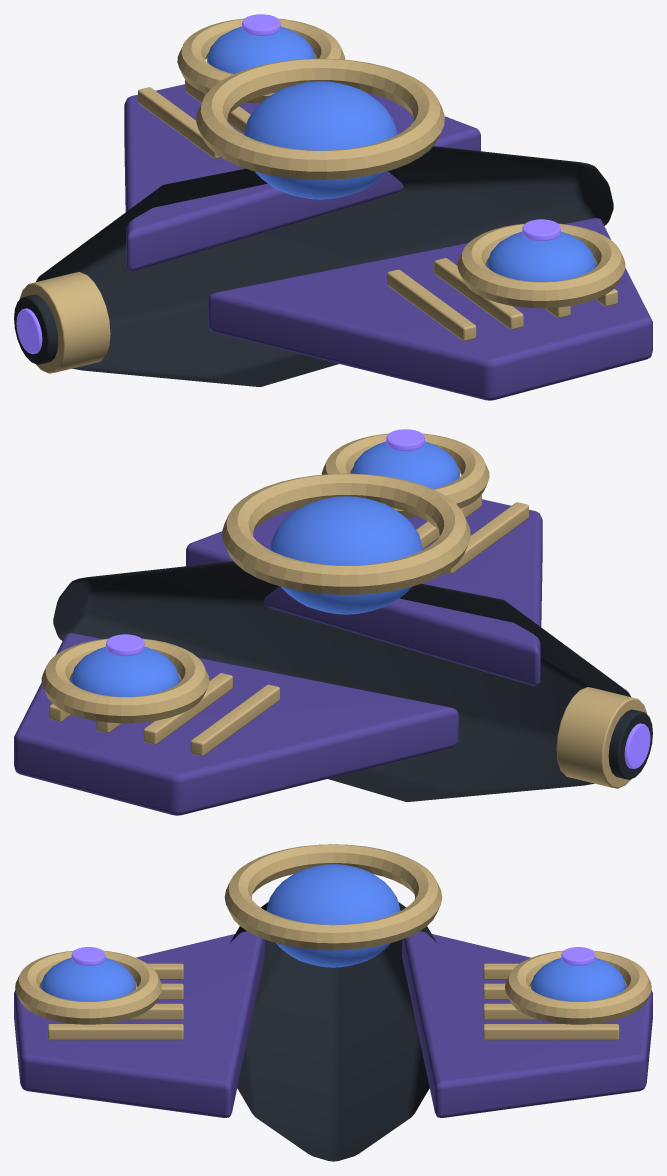
The model's file is jammer-v3.glb.
3 renders of one model, top to bottom at view 1: azimuth 30°, elevation 25°; view 2: azimuth 150°, elevation 25°; view 3: azimuth 270°, elevation 25°, orthographic. The views are drawn at different scales.
Visible parts, largest first — view 1: broadcast spindle, manta wing, manta wing.001, broadcast halo, broadcast core, resonator collar, main drive collar, resonator sapphire, resonator collar.001, resonator sapphire.001, wing waveguide, wing waveguide.004 (+6 smaller); view 2: broadcast spindle, manta wing.001, manta wing, broadcast halo, broadcast core, resonator collar.001, main drive collar, resonator sapphire.001, resonator collar, resonator sapphire, wing waveguide.004, wing waveguide (+6 smaller); view 3: broadcast spindle, manta wing.001, manta wing, broadcast halo, broadcast core, resonator collar, resonator collar.001, resonator sapphire, resonator sapphire.001, wing waveguide.003, wing waveguide.007, wing waveguide.002 (+5 smaller).
Boxes of the visible parts, x1=… form: broadcast spindle: x1=36, y1=146, x2=613, y2=386; manta wing: x1=208, y1=218, x2=652, y2=400; manta wing.001: x1=124, y1=84, x2=480, y2=271; broadcast halo: x1=196, y1=58, x2=444, y2=179; broadcast core: x1=244, y1=81, x2=397, y2=199; resonator collar: x1=457, y1=223, x2=625, y2=308; main drive collar: x1=19, y1=272, x2=110, y2=373; resonator sapphire: x1=487, y1=231, x2=595, y2=281; resonator collar.001: x1=177, y1=18, x2=345, y2=102; resonator sapphire.001: x1=207, y1=26, x2=315, y2=73; wing waveguide: x1=387, y1=269, x2=476, y2=341; wing waveguide.004: x1=138, y1=87, x2=220, y2=158; broadcast spindle: x1=53, y1=561, x2=630, y2=801; manta wing.001: x1=14, y1=633, x2=458, y2=815; manta wing: x1=186, y1=499, x2=542, y2=686; broadcast halo: x1=222, y1=473, x2=470, y2=594; broadcast core: x1=269, y1=496, x2=422, y2=614; resonator collar.001: x1=41, y1=638, x2=209, y2=723; main drive collar: x1=556, y1=687, x2=647, y2=788; resonator sapphire.001: x1=71, y1=646, x2=179, y2=696; resonator collar: x1=321, y1=433, x2=489, y2=517; resonator sapphire: x1=351, y1=441, x2=459, y2=488; wing waveguide.004: x1=190, y1=684, x2=279, y2=756; wing waveguide: x1=446, y1=502, x2=528, y2=573; broadcast spindle: x1=230, y1=902, x2=436, y2=1161; manta wing.001: x1=402, y1=931, x2=652, y2=1117; manta wing: x1=14, y1=931, x2=264, y2=1117; broadcast halo: x1=224, y1=844, x2=442, y2=950; broadcast core: x1=266, y1=864, x2=400, y2=967; resonator collar: x1=15, y1=950, x2=161, y2=1024; resonator collar.001: x1=505, y1=950, x2=651, y2=1024; resonator sapphire: x1=41, y1=957, x2=135, y2=1001; resonator sapphire.001: x1=531, y1=957, x2=625, y2=1001; wing waveguide.003: x1=47, y1=1024, x2=183, y2=1040; wing waveguide.007: x1=483, y1=1024, x2=619, y2=1040; wing waveguide.002: x1=48, y1=1003, x2=183, y2=1020.
Bounding box in the file's own units: 84.5 × 36.86 × 93.92.
